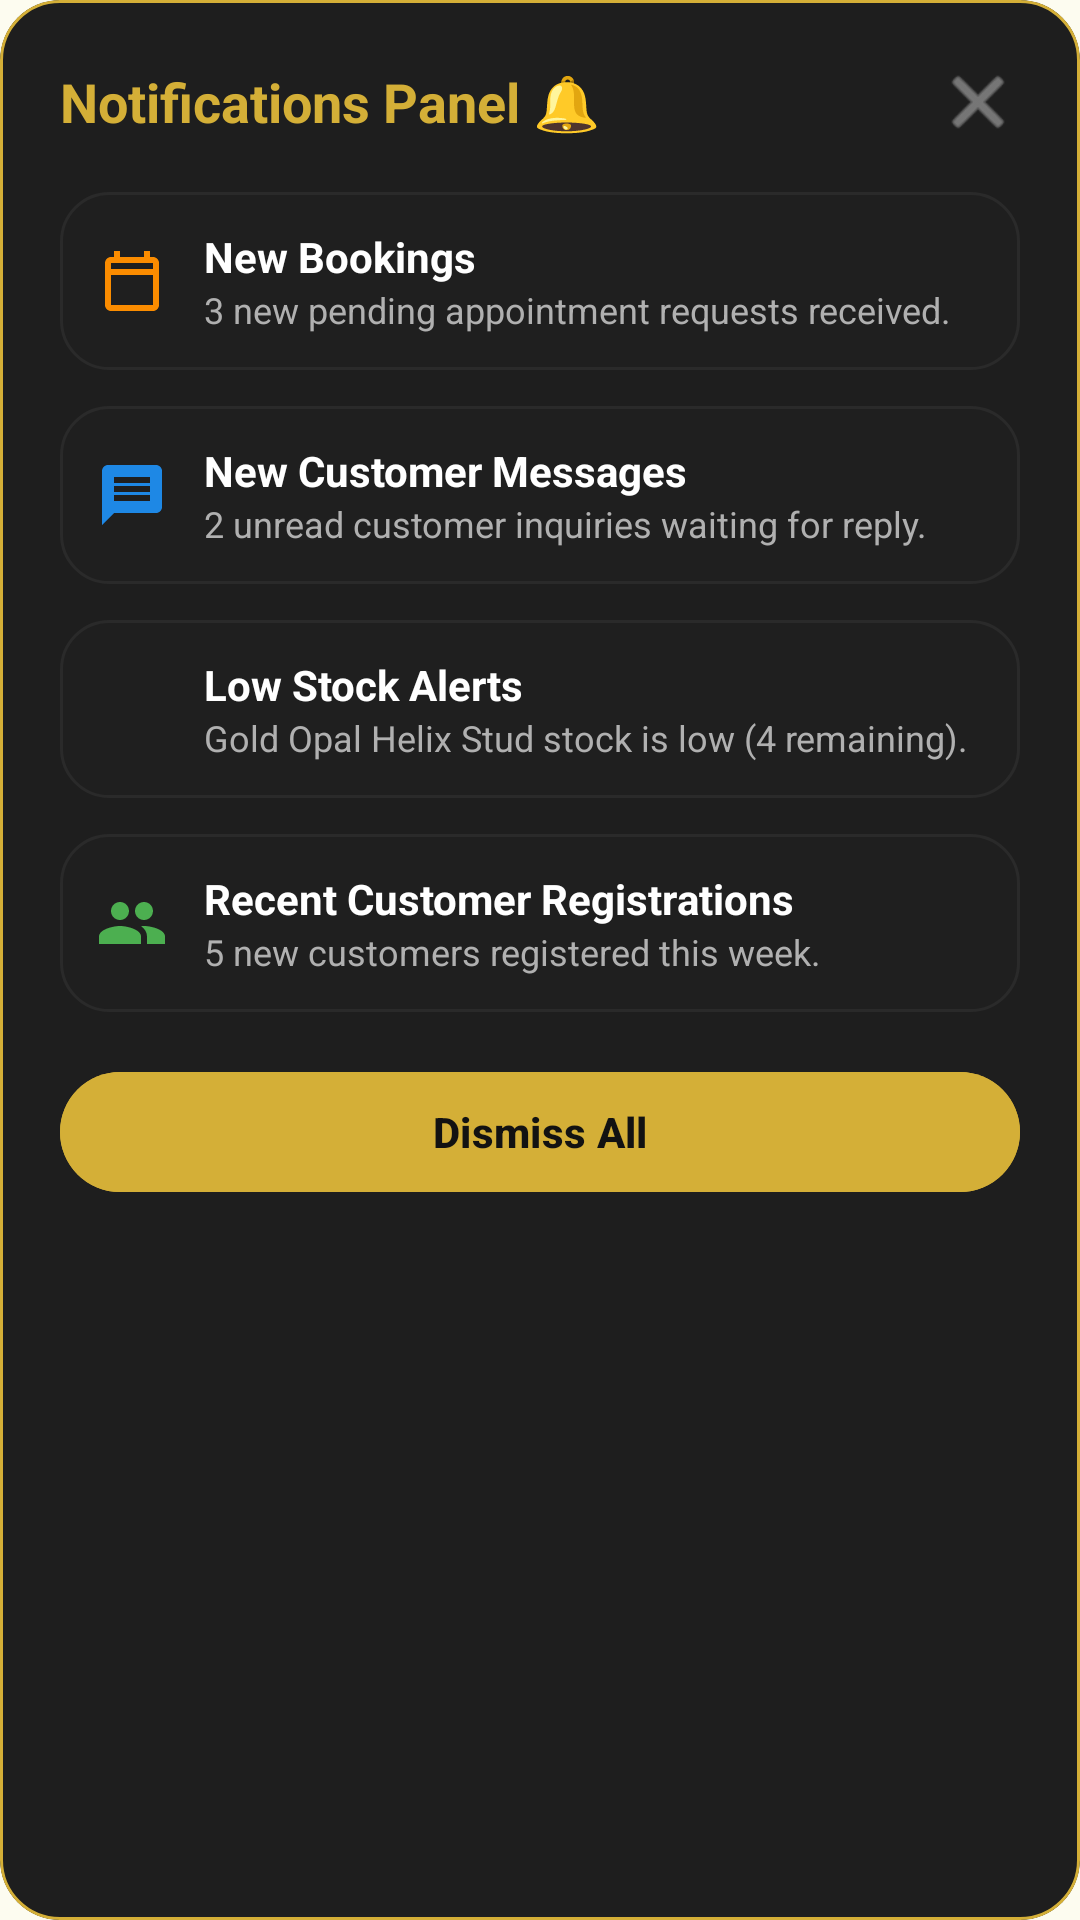

Screen size 1080px x 1920px. Icon name, then its box in pixels as (x1, y1, x2, y2):
calendar: (105, 251, 159, 311)
Close: (952, 76, 1004, 128)
people: (99, 902, 165, 944)
